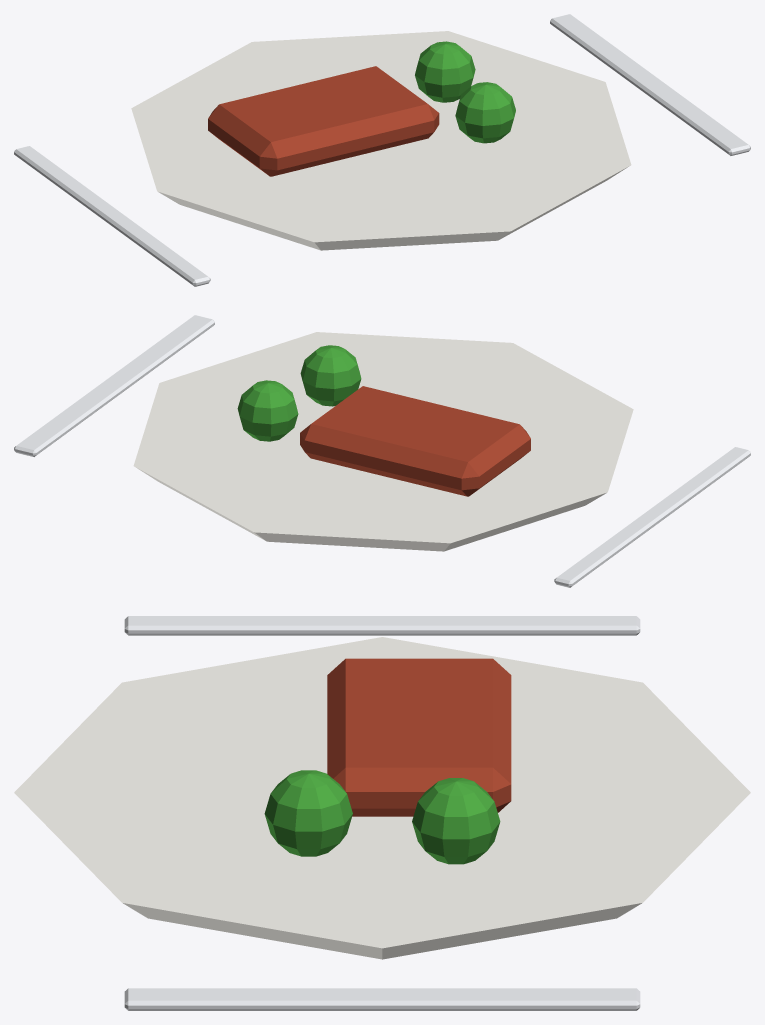
Rendered from DinnerPlate.fbx.
The picture shows the model from 3 angles, top to bottom: view 1: azimuth 30°, elevation 25°; view 2: azimuth 150°, elevation 25°; view 3: azimuth 270°, elevation 25°; orthographic projection. The views are drawn at different scales.
Visible parts, largest first — view 1: DinnerPlate; view 2: DinnerPlate; view 3: DinnerPlate.
Boxes of the visible parts, x1,y1,x2,y2 form: DinnerPlate: [14, 14, 750, 286]; DinnerPlate: [14, 315, 750, 587]; DinnerPlate: [14, 616, 750, 1010].
Size of the model in its own units: 2.49 by 0.3 by 2.
1 material, 1 textured.
